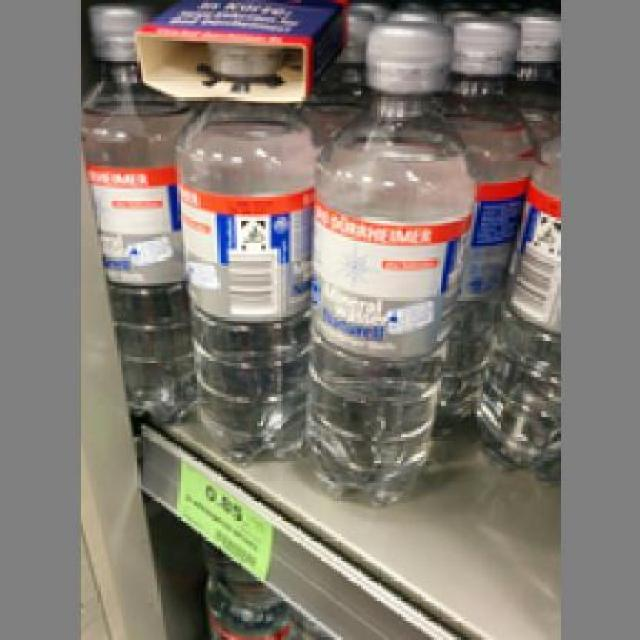Water: (303, 17, 463, 506), (165, 20, 308, 463), (83, 3, 186, 423)
